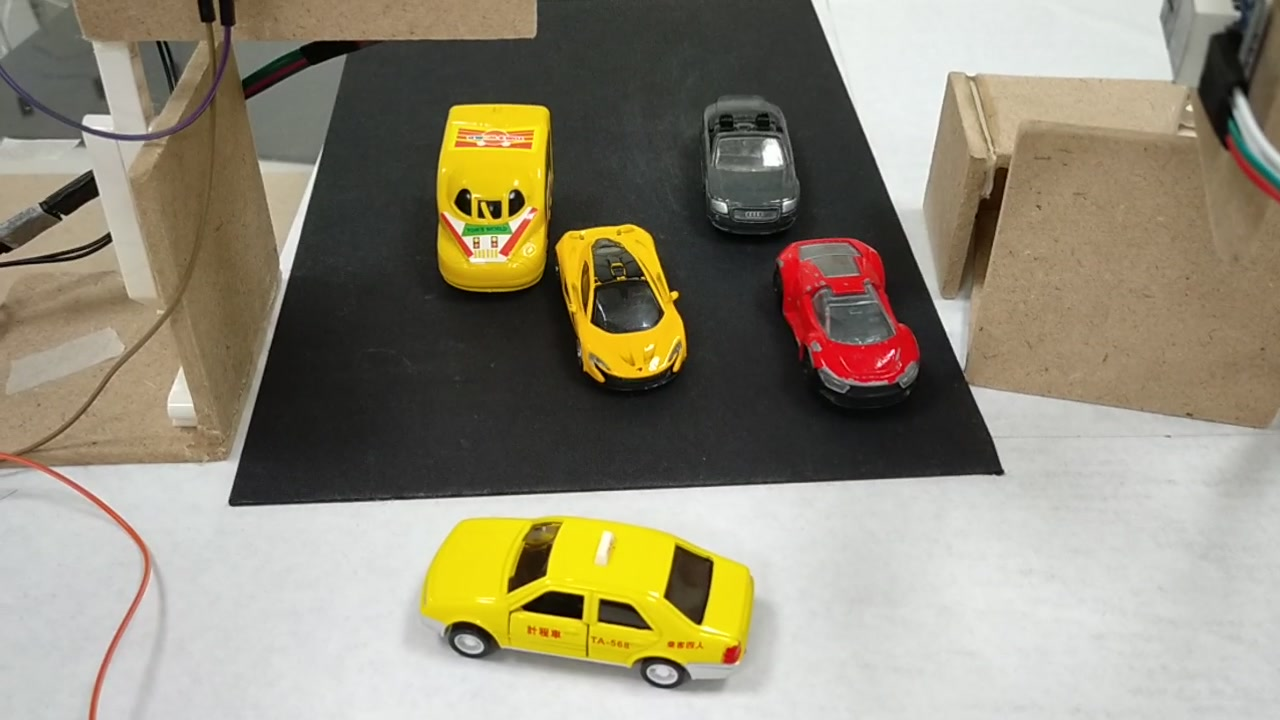car: (429, 511, 756, 697), (778, 242, 926, 417), (551, 225, 694, 394), (697, 91, 805, 234)
